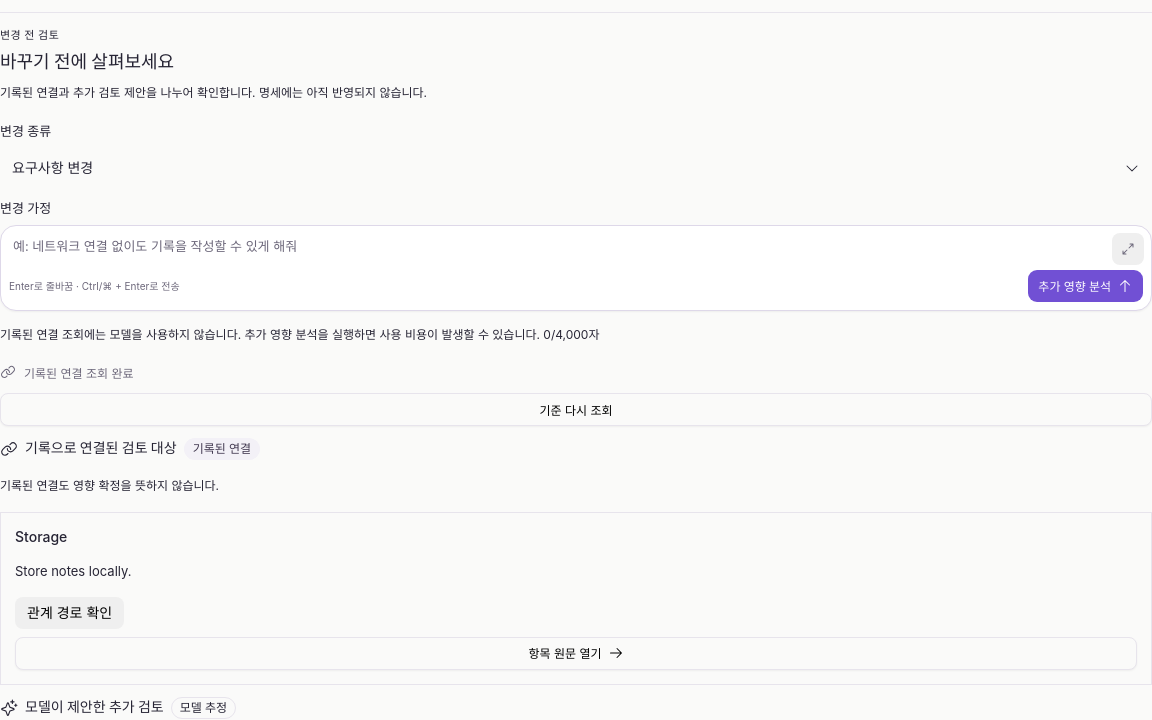
Scenario: 변경 영향 검토 › 인용을 클릭으로 열고 확인 질문을 기존 수정 의견에 추가한다
Expected: the text "기록된 연결 조회 완료" is shown, top-left (24, 366), bottom-right (134, 381)
Type "오프라인 지원" into the text box labelled "변경 가정".
click(576, 246); type("오프라인 지원")  # box top-left (1, 226), bottom-right (1151, 266)
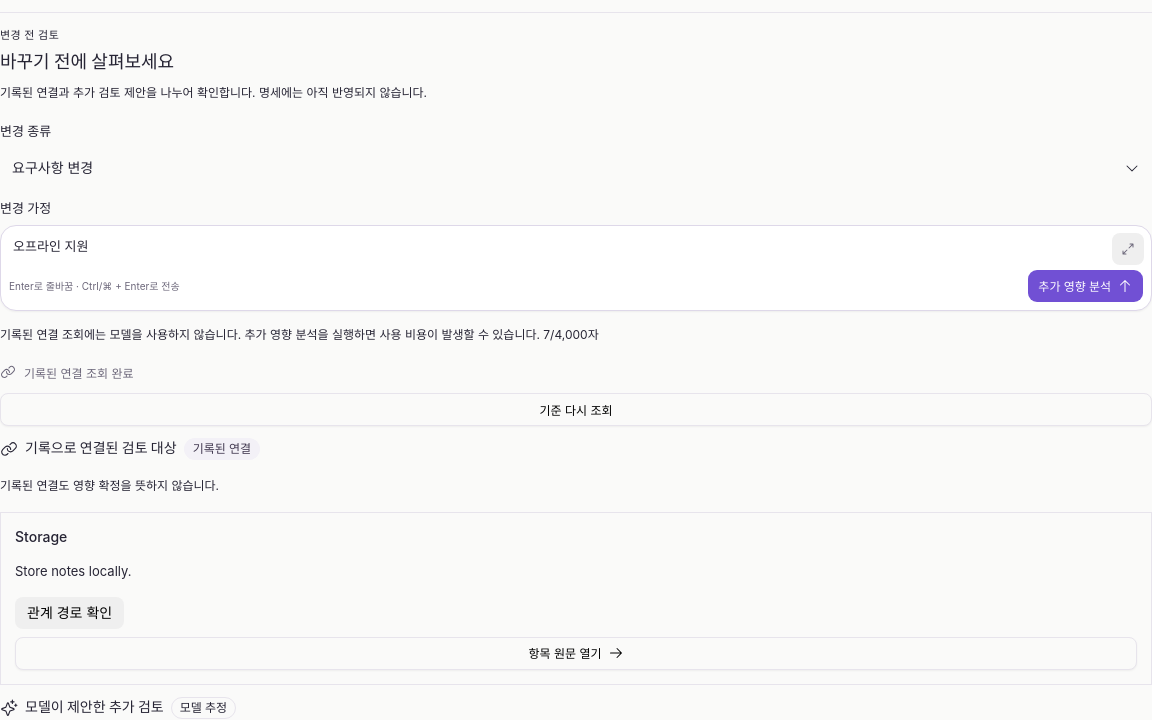
Click the button "추가 영향 분석".
click(1086, 286)  # box top-left (1028, 270), bottom-right (1143, 302)
(page scrolled)
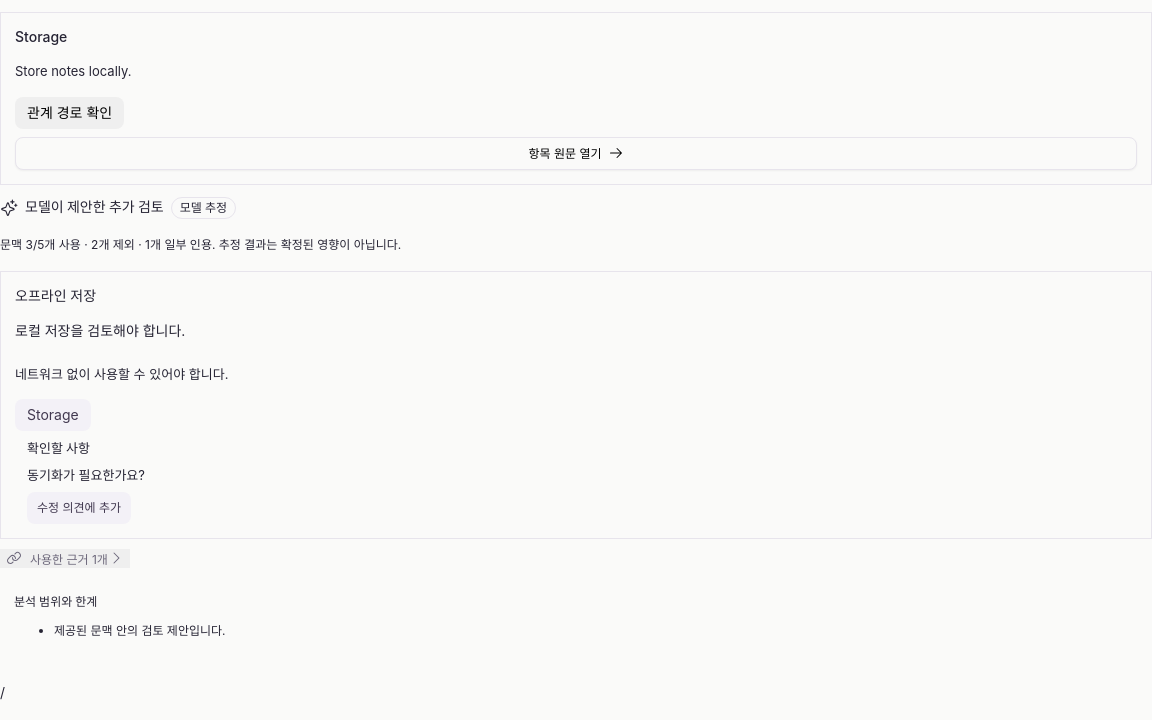
Expected: the text "오프라인 저장" is shown, top-left (15, 286), bottom-right (96, 305)
Click the button "Storage".
click(53, 415)  # box top-left (15, 399), bottom-right (91, 431)
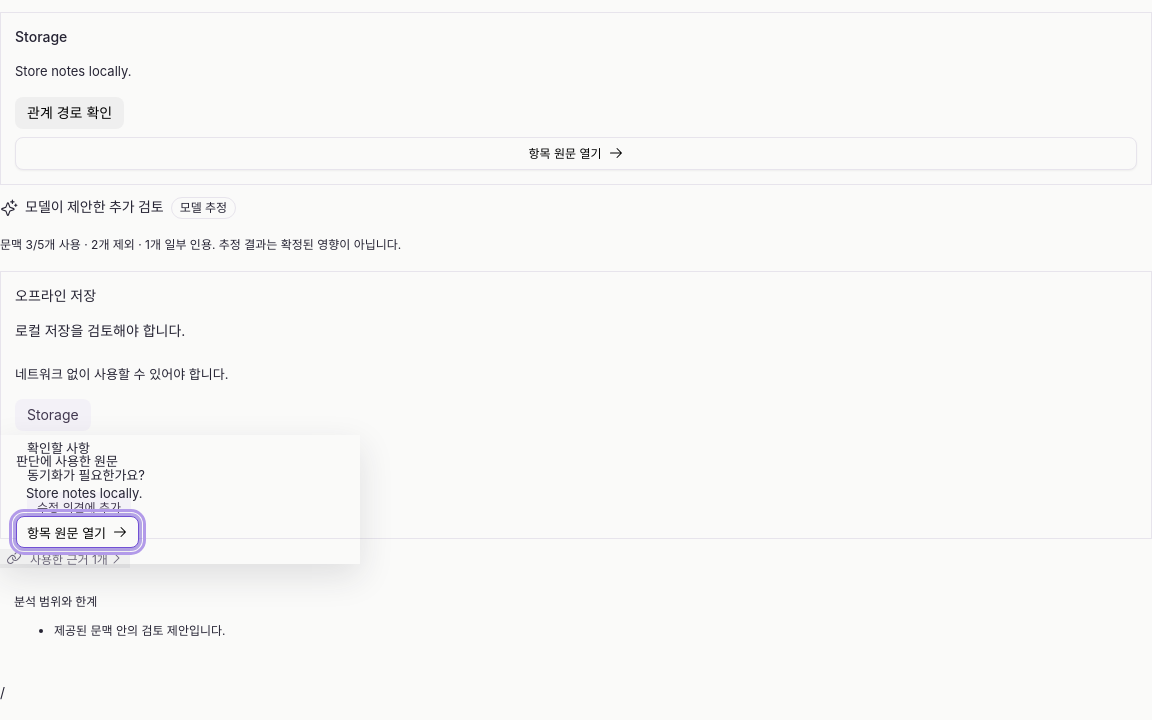
Expected: the text "Store notes locally." below "판단에 사용한 원문" is shown, top-left (26, 485), bottom-right (142, 501)
Press Escape in the dialog, box top-left (0, 435), bottom-right (360, 564)
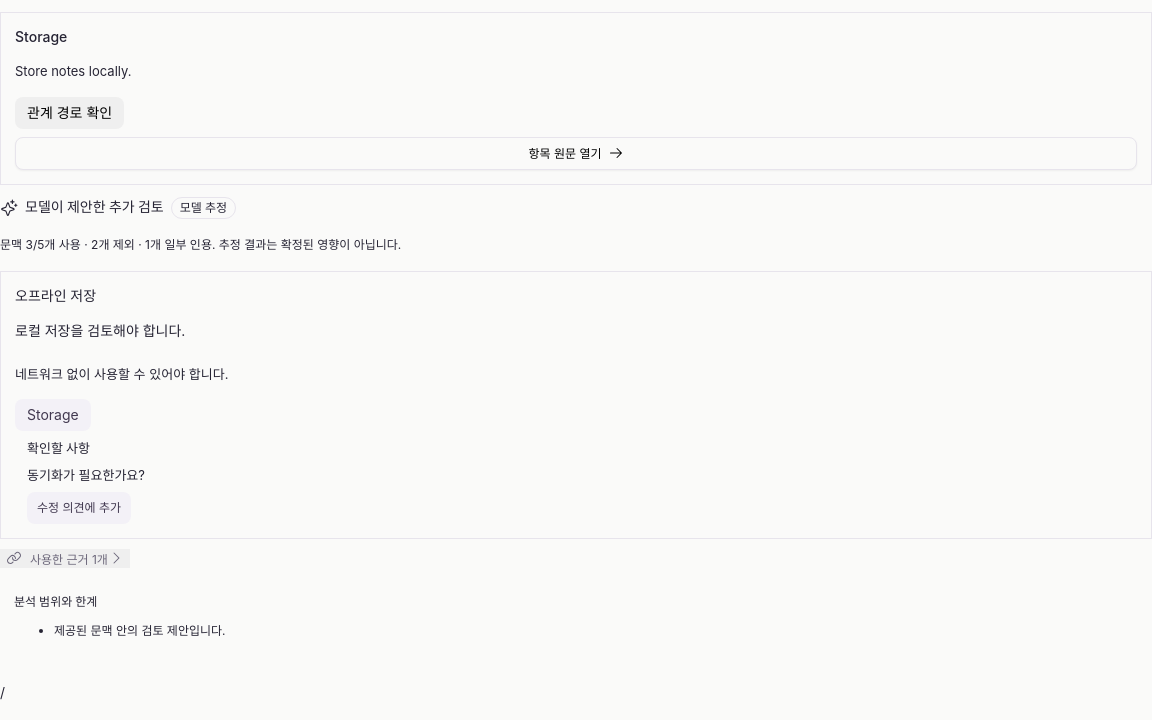
Click the button "수정 의견에 추가".
click(79, 508)  # box top-left (27, 492), bottom-right (131, 524)
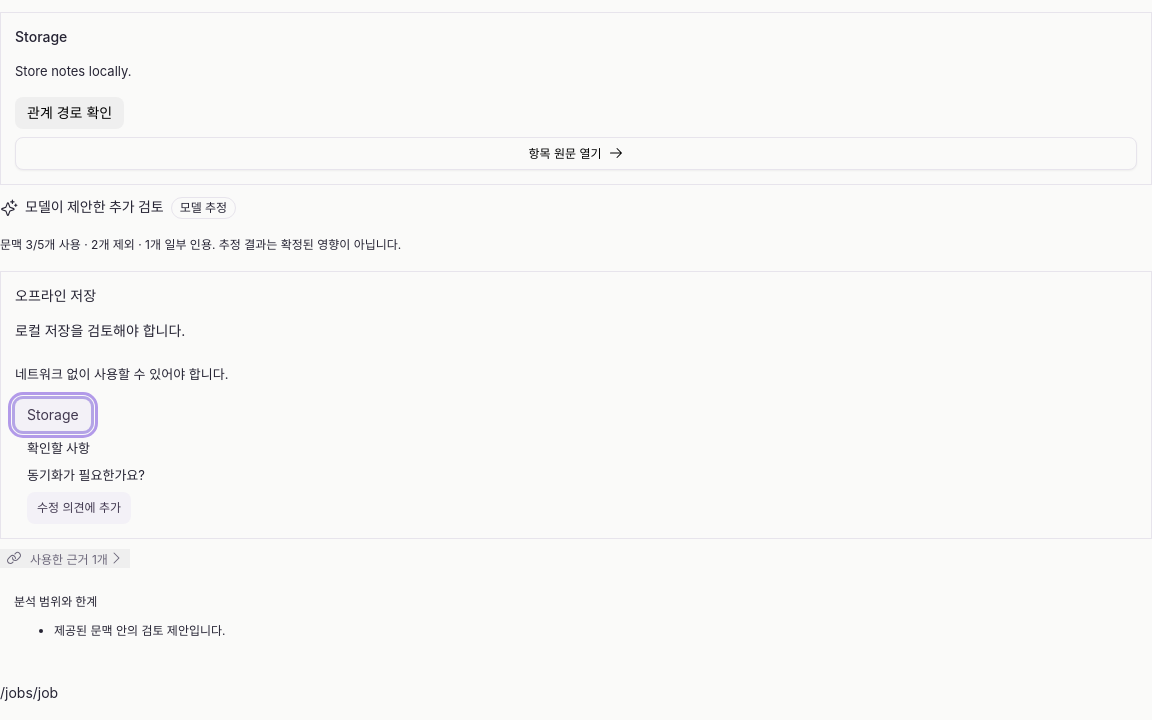
Expected: the text with test id "location" reads "/jobs/job", top-left (0, 684), bottom-right (58, 701)
